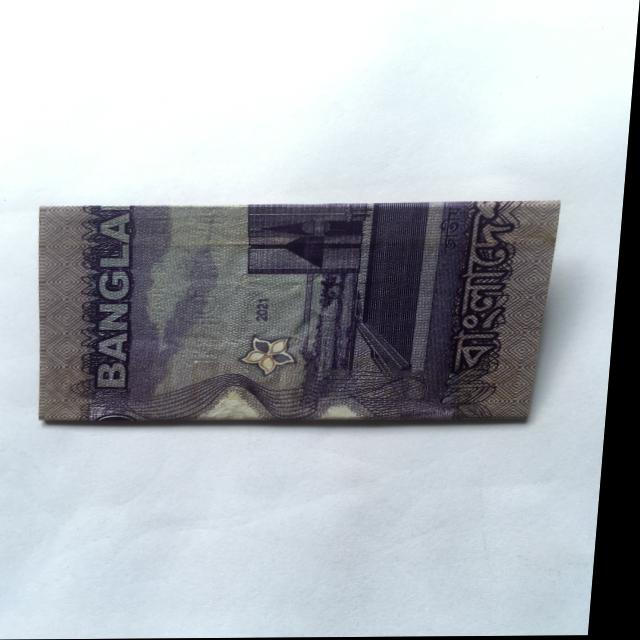Taka: (19, 189, 581, 434)
